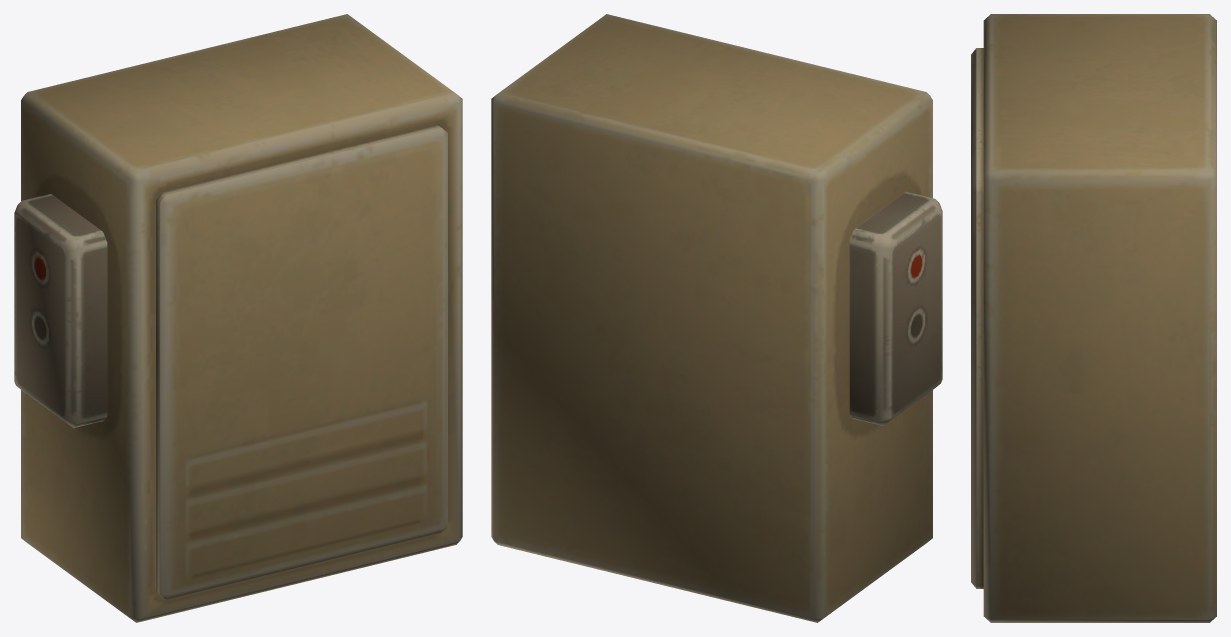
File: SM_electric_props_06.glb
The picture shows the model from 3 angles, left to right: view 1: azimuth 30°, elevation 25°; view 2: azimuth 150°, elevation 25°; view 3: azimuth 270°, elevation 25°; orthographic projection.
Parts seen in each view (by area): view 1: SM_electric_props_06; view 2: SM_electric_props_06; view 3: SM_electric_props_06.
Boxes of the visible parts, <box> form: SM_electric_props_06: <box>14,14,462,622</box>; SM_electric_props_06: <box>491,14,942,622</box>; SM_electric_props_06: <box>971,14,1216,622</box>.
Bounding box in the file's own units: 0.5102 × 0.5954 × 0.2934.
Materials: 1 (1 with a texture image).
